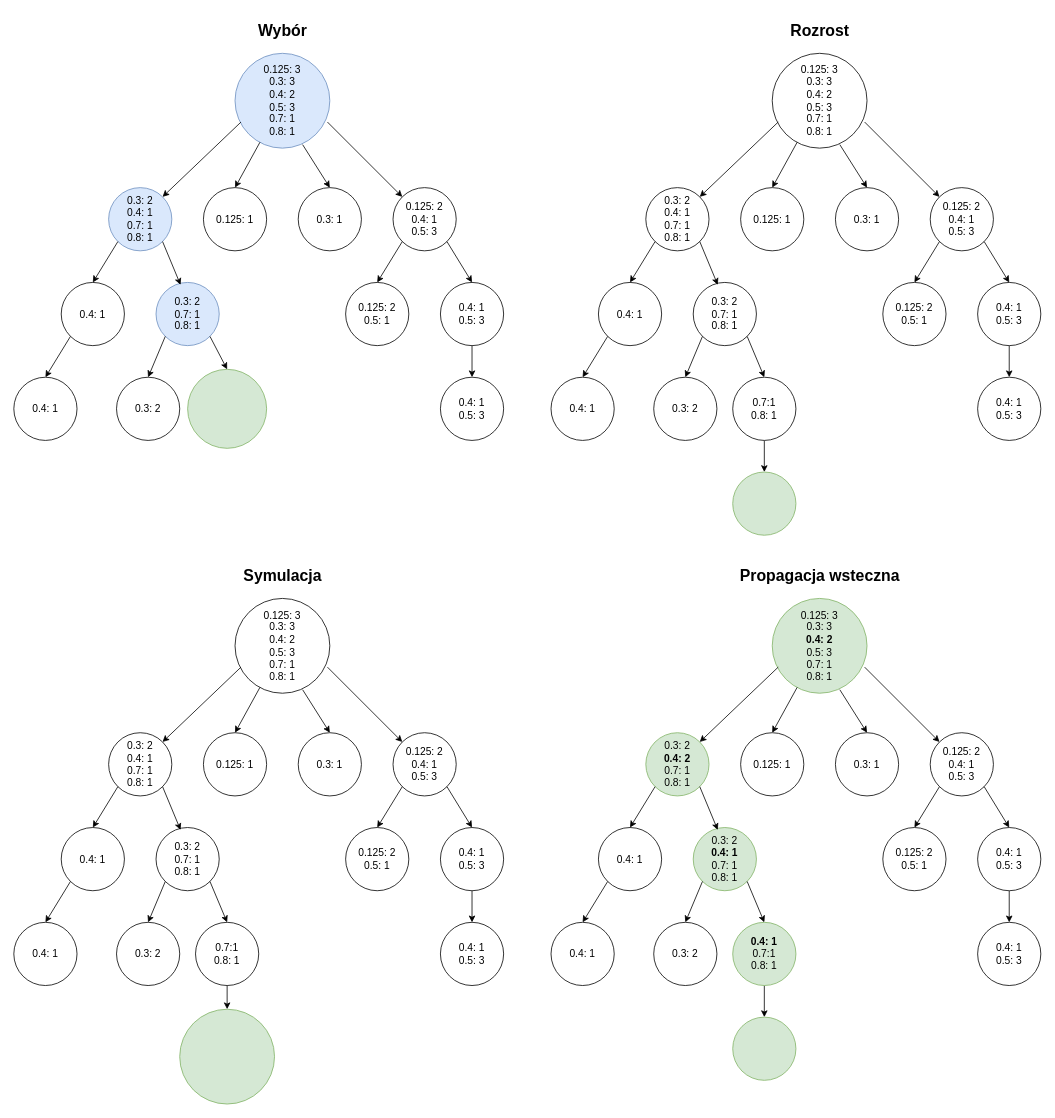
This 1055x1118 diagram has some shape labels left out. Each missing label, with the centre of its shape:
0.7:1 0.8: 1 Węzeł wybrany w tym kroku: [227,408]
Nowy węzeł: [764,503]
Symulowanie poprzez tworzenie losowych węzłów-dzieci...: [227,1056]
Wynik symulacji: 0.4: 1: [764,1048]
